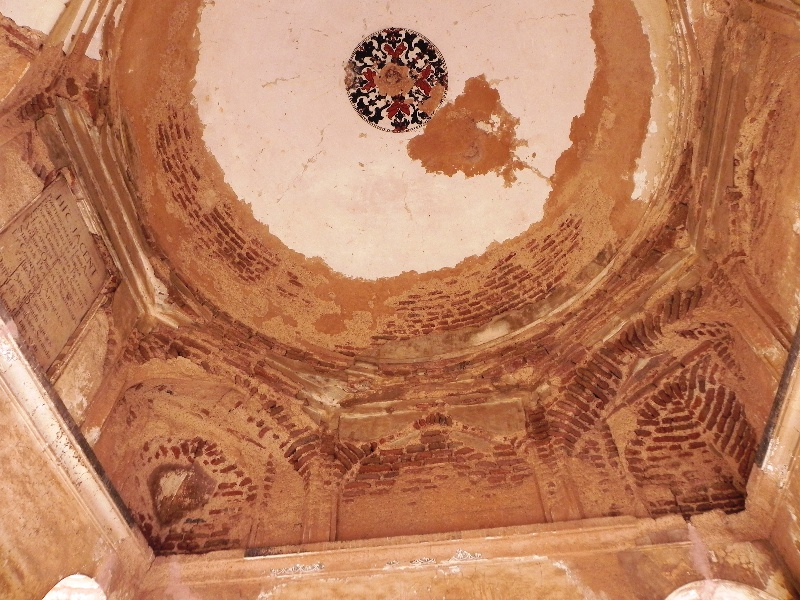Exposed Bricks: (540, 348, 766, 518), (372, 221, 576, 347), (157, 118, 296, 301)
